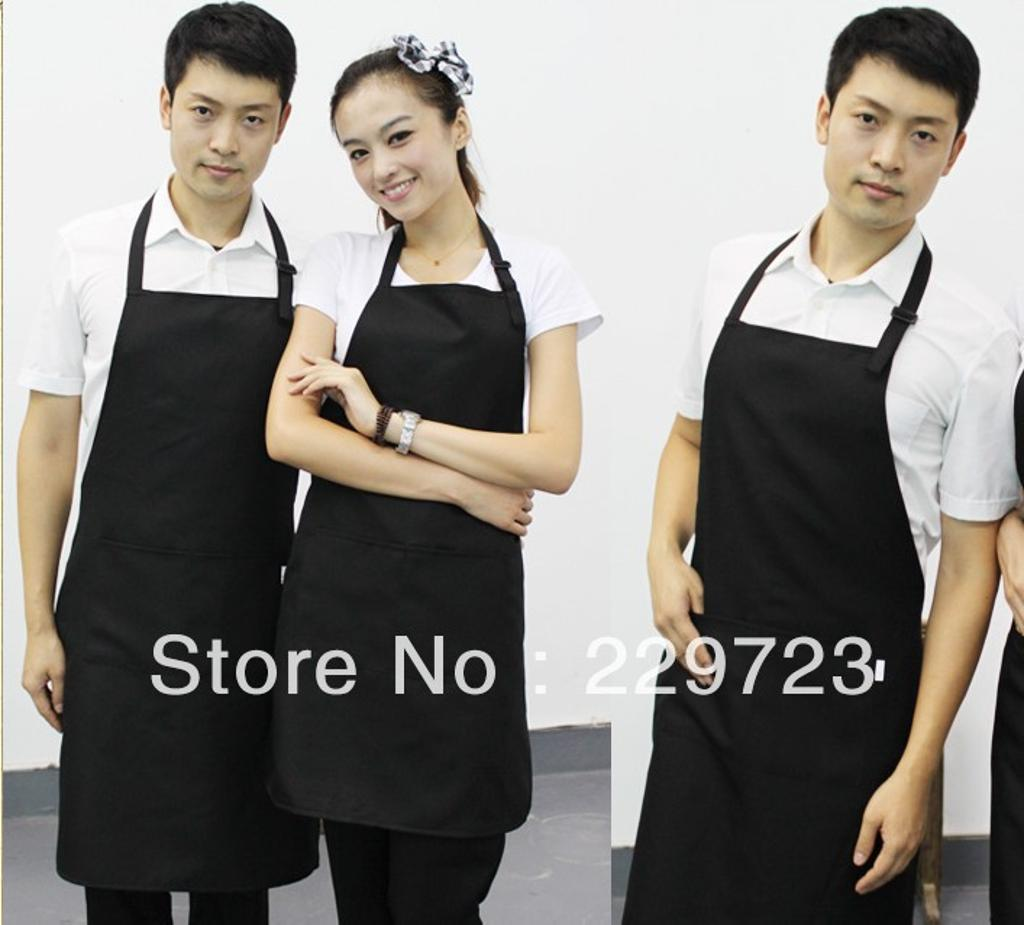face: (828, 58, 954, 230), (168, 44, 284, 198), (334, 84, 454, 218)
